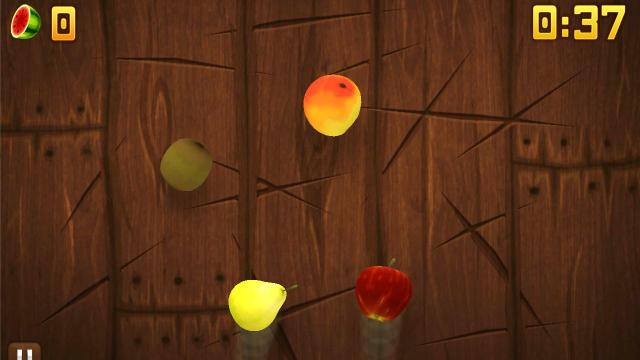fruit: (353, 258, 412, 322), (303, 74, 362, 136), (228, 280, 290, 330), (160, 137, 212, 191)
ignore: (9, 3, 43, 41)
